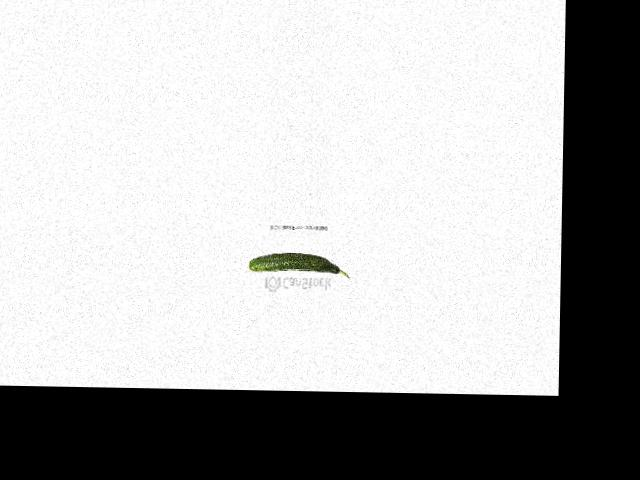cucumber: (249, 251, 350, 277)
